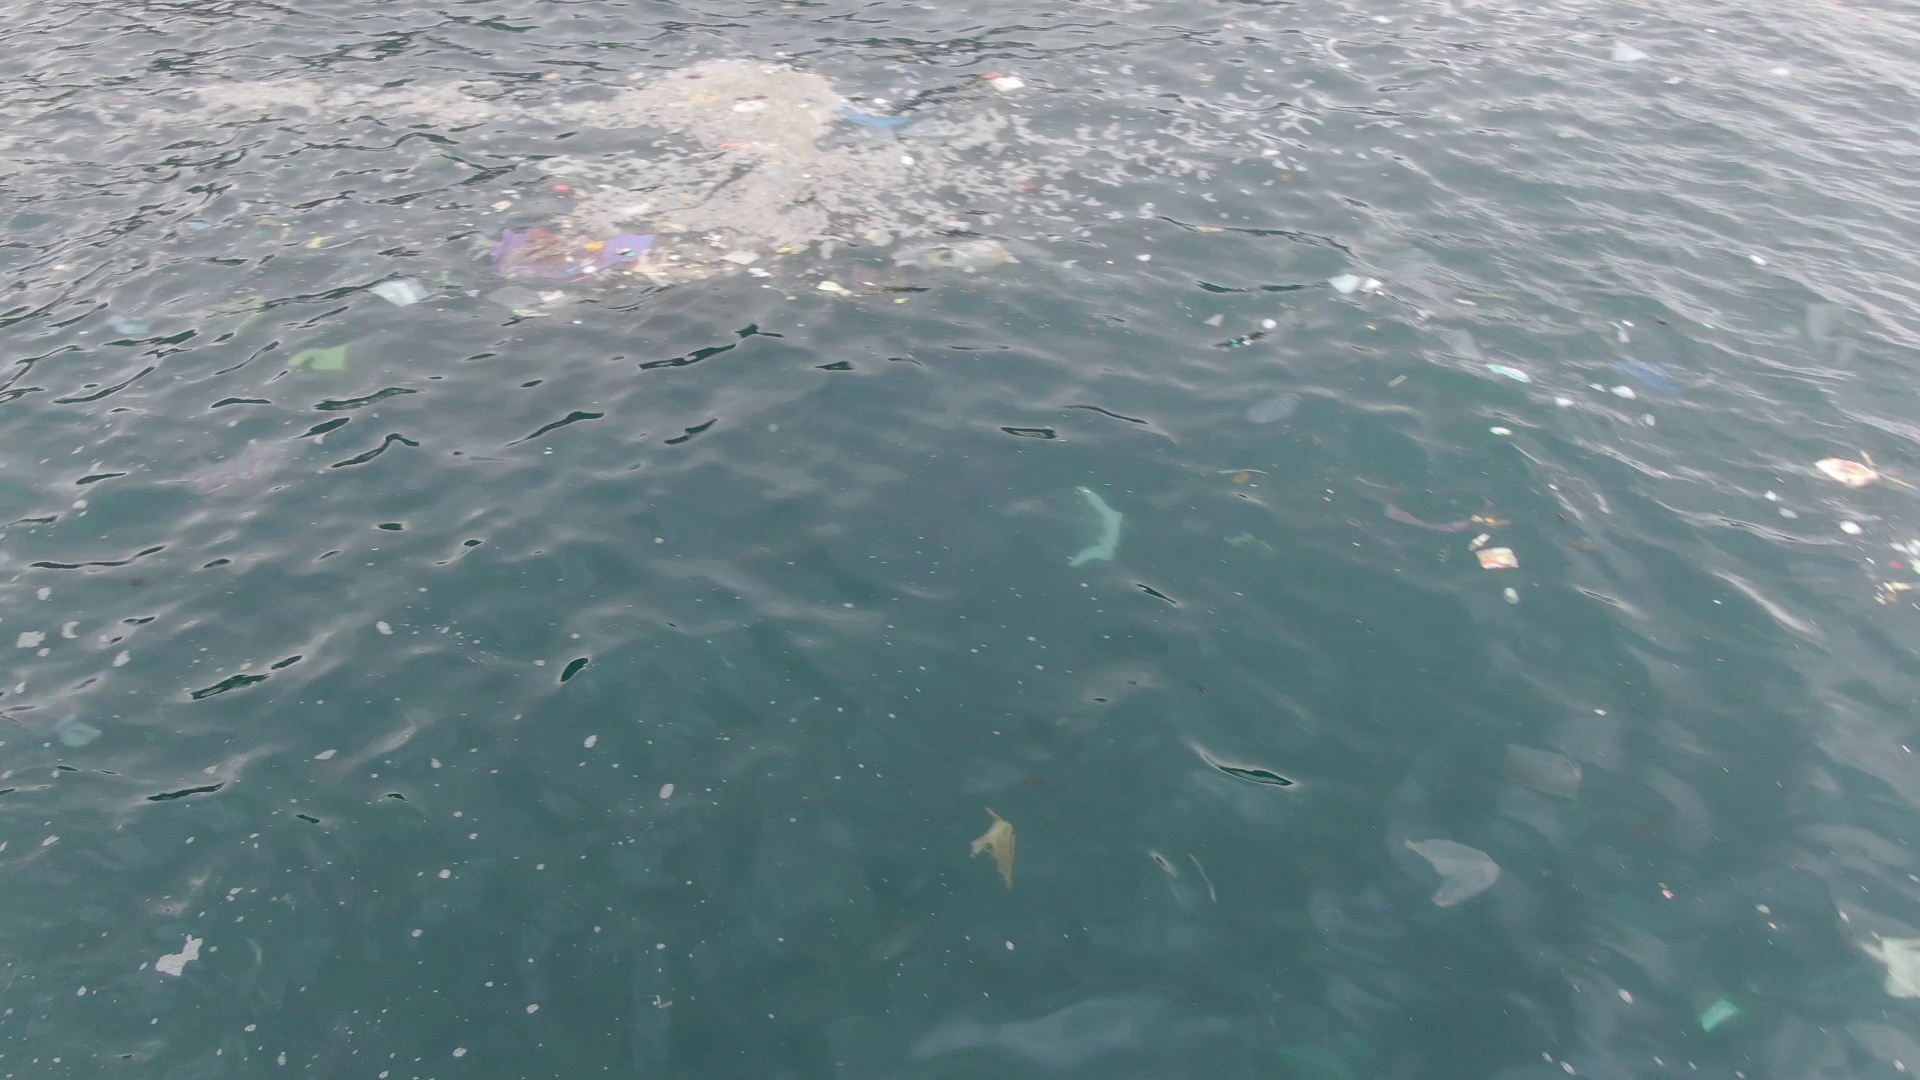garbage: (489, 183, 796, 285), (1408, 837, 1503, 906), (893, 233, 1056, 270), (1065, 485, 1124, 572), (1385, 495, 1513, 531), (1815, 448, 1913, 491), (973, 804, 1018, 890), (1870, 935, 1920, 1000), (1607, 359, 1685, 400), (814, 266, 885, 298), (368, 278, 434, 309), (835, 107, 914, 131), (1470, 533, 1520, 570), (287, 345, 348, 371), (1702, 1001, 1741, 1033), (980, 69, 1027, 94), (104, 314, 152, 338), (1331, 274, 1385, 294), (1486, 364, 1532, 386), (1876, 582, 1912, 607), (1611, 42, 1650, 61), (720, 141, 779, 152), (1229, 334, 1255, 349), (732, 102, 770, 112), (1840, 520, 1865, 535), (1780, 506, 1800, 521), (190, 219, 210, 231), (1489, 427, 1514, 436), (1261, 318, 1276, 331), (1888, 559, 1905, 571), (1764, 491, 1779, 501), (902, 156, 914, 166)
